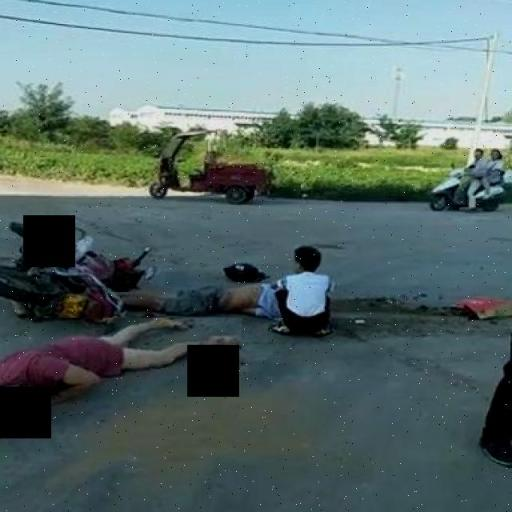Fall: (0, 317, 242, 448)
